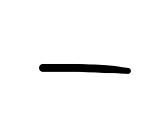minus: (39, 62, 133, 78)
